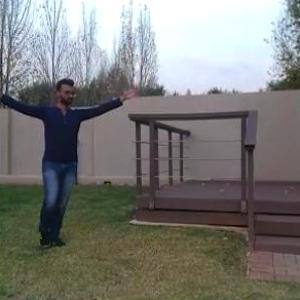takeoff: (0, 76, 146, 259)
